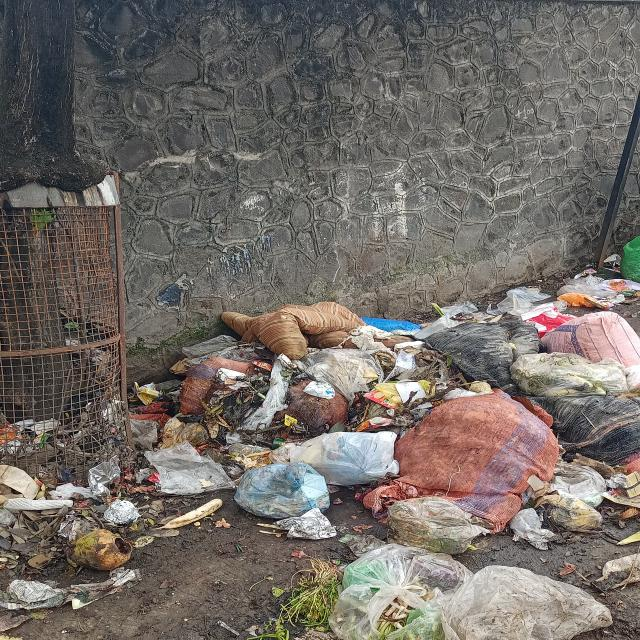garbage: (118, 295, 639, 640)
